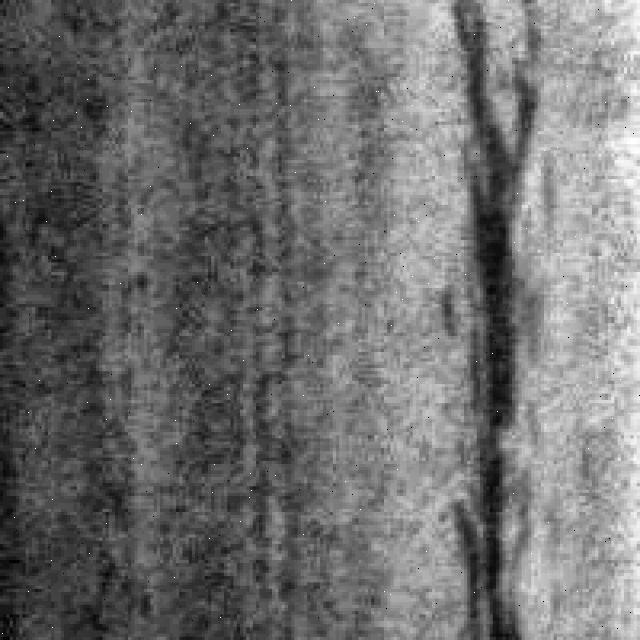Patches: (438, 0, 560, 634)
